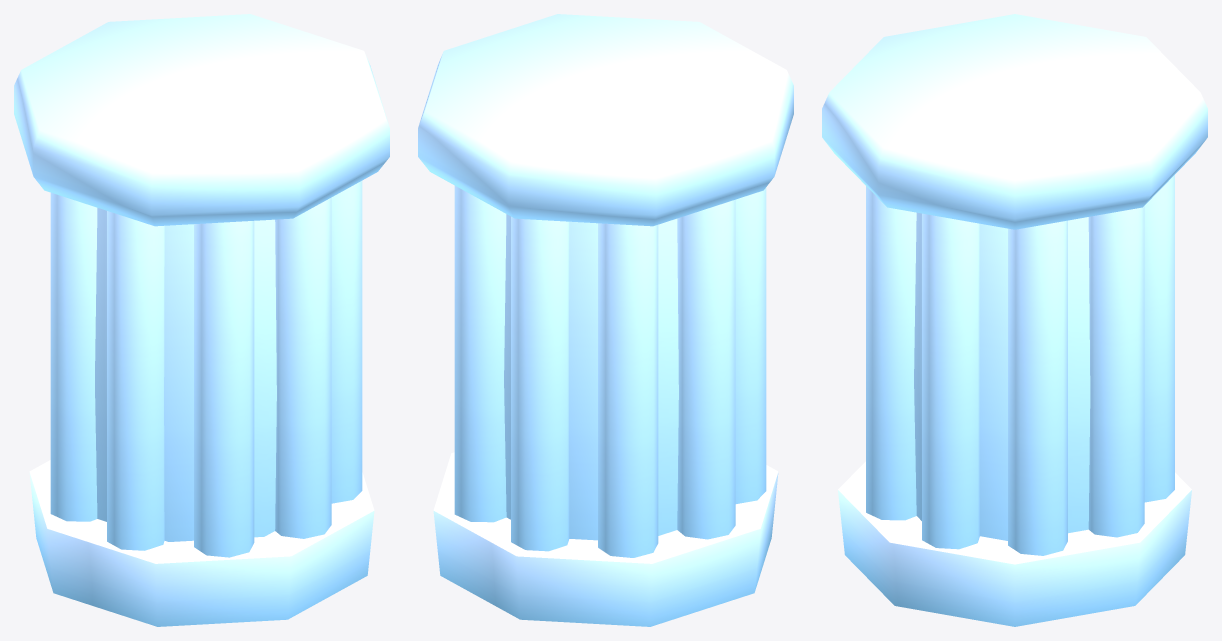
File: steel_grip_034.glb
The picture shows the model from 3 angles, left to right: view 1: azimuth 30°, elevation 25°; view 2: azimuth 150°, elevation 25°; view 3: azimuth 270°, elevation 25°; orthographic projection.
Parts seen in each view (by area): view 1: steel_grip_034; view 2: steel_grip_034; view 3: steel_grip_034.
Part boxes in pixels (box(x1,y1,x2,y2)): steel_grip_034: box(14, 14, 389, 626); steel_grip_034: box(418, 14, 793, 626); steel_grip_034: box(822, 14, 1207, 626).
Bounding box in the file's own units: 2.5 × 3.31 × 2.5.
Materials: 1 (1 with a texture image).
